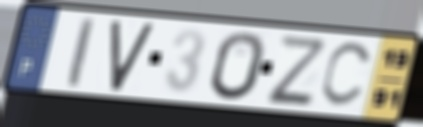3: (163, 27, 210, 96)
C: (318, 40, 376, 110)
I: (66, 15, 97, 90)
O: (208, 30, 268, 103)
V: (108, 20, 157, 94)
Z: (265, 33, 327, 106)
